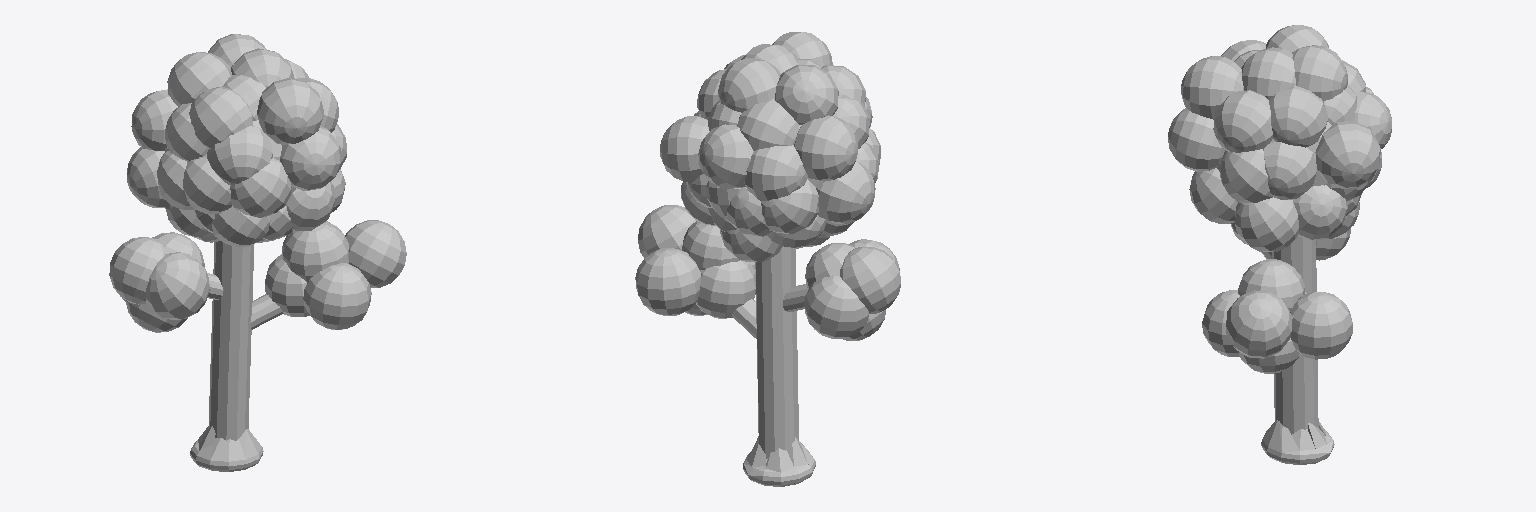
The model's file is tree3.obj.
3 renders of one model, left to right at view 1: azimuth 30°, elevation 25°; view 2: azimuth 150°, elevation 25°; view 3: azimuth 270°, elevation 25°, orthographic.
Visible parts, largest first — view 1: tree31, tree334, tree330, tree336, tree36, tree329, tree340, tree37, tree333, tree310, tree345, tree338 (+18 smaller); view 2: tree31, tree335, tree317, tree337, tree310, tree338, tree356, tree318, tree39, tree316, tree332, tree320 (+18 smaller); view 3: tree31, tree36, tree320, tree335, tree322, tree326, tree323, tree330, tree329, tree321, tree32, tree332 (+11 smaller).
Part boxes in pixels (left/top/right/bottom): tree31: left=208, top=241, right=253, bottom=440; tree334: left=303, top=263, right=371, bottom=329; tree330: left=257, top=78, right=323, bottom=144; tree336: left=146, top=252, right=209, bottom=319; tree36: left=345, top=220, right=406, bottom=287; tree329: left=280, top=126, right=341, bottom=190; tree340: left=189, top=87, right=252, bottom=148; tree37: left=283, top=222, right=348, bottom=282; tree333: left=207, top=126, right=272, bottom=185; tree310: left=109, top=237, right=168, bottom=304; tree345: left=230, top=158, right=291, bottom=217; tree338: left=167, top=52, right=231, bottom=106; tree31: left=755, top=247, right=798, bottom=466; tree335: left=635, top=248, right=700, bottom=315; tree317: left=794, top=115, right=857, bottom=181; tree337: left=804, top=276, right=868, bottom=338; tree310: left=840, top=247, right=900, bottom=313; tree338: left=775, top=65, right=838, bottom=124; tree356: left=698, top=124, right=753, bottom=188; tree318: left=744, top=145, right=807, bottom=200; tree39: left=696, top=260, right=755, bottom=318; tree316: left=816, top=161, right=875, bottom=224; tree332: left=718, top=58, right=780, bottom=112; tree320: left=660, top=116, right=709, bottom=182; tree31: left=1272, top=236, right=1318, bottom=434; tree36: left=1226, top=290, right=1292, bottom=358; tree320: left=1315, top=121, right=1380, bottom=188; tree335: left=1290, top=292, right=1352, bottom=359; tree322: left=1213, top=90, right=1272, bottom=152; tree326: left=1235, top=197, right=1298, bottom=251; tree323: left=1269, top=85, right=1327, bottom=147; tree330: left=1181, top=56, right=1243, bottom=119; tree329: left=1168, top=108, right=1224, bottom=171; tree321: left=1263, top=142, right=1316, bottom=199; tree32: left=1261, top=420, right=1334, bottom=464; tree332: left=1292, top=45, right=1347, bottom=101.
Bounding box in the file's own units: 0.6356 × 0.9284 × 0.4559.